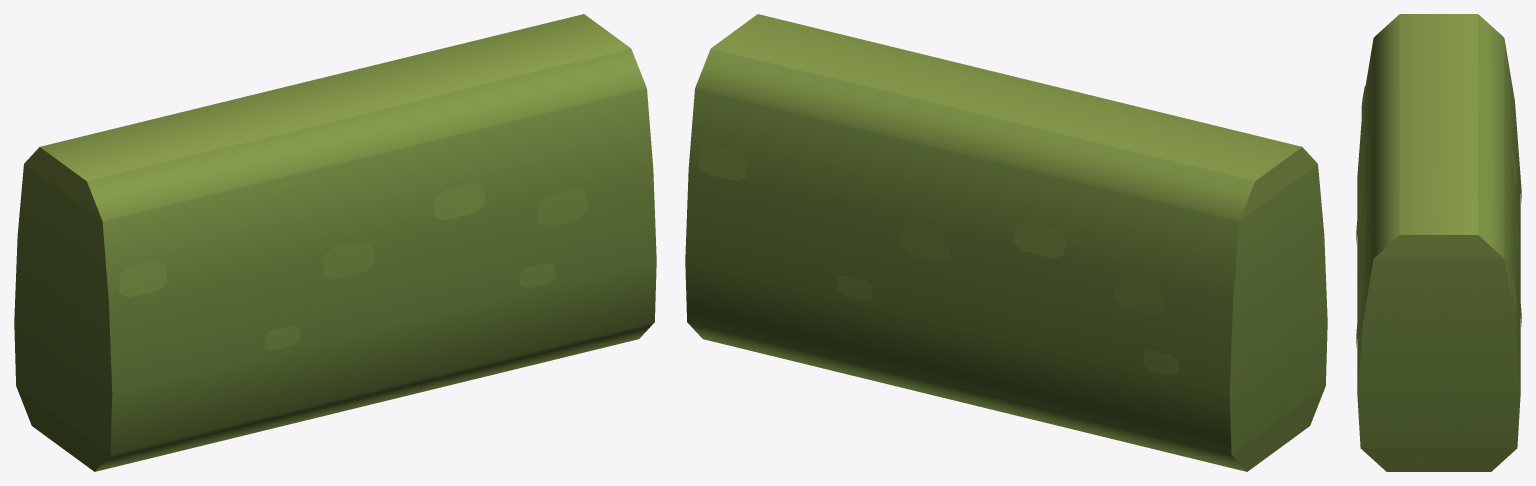
File: hedge_element_x4.fbx
The picture shows the model from 3 angles, left to right: view 1: azimuth 30°, elevation 25°; view 2: azimuth 150°, elevation 25°; view 3: azimuth 270°, elevation 25°; orthographic projection. The views are drawn at different scales.
Parts seen in each view (by area): view 1: hedge_element_x4; view 2: hedge_element_x4; view 3: hedge_element_x4.
Part boxes in pixels (left/top/right/bottom): hedge_element_x4: left=14, top=14, right=656, bottom=471; hedge_element_x4: left=685, top=14, right=1327, bottom=471; hedge_element_x4: left=1356, top=14, right=1521, bottom=471.
Size of the model in its own units: 400 by 200 by 127.
